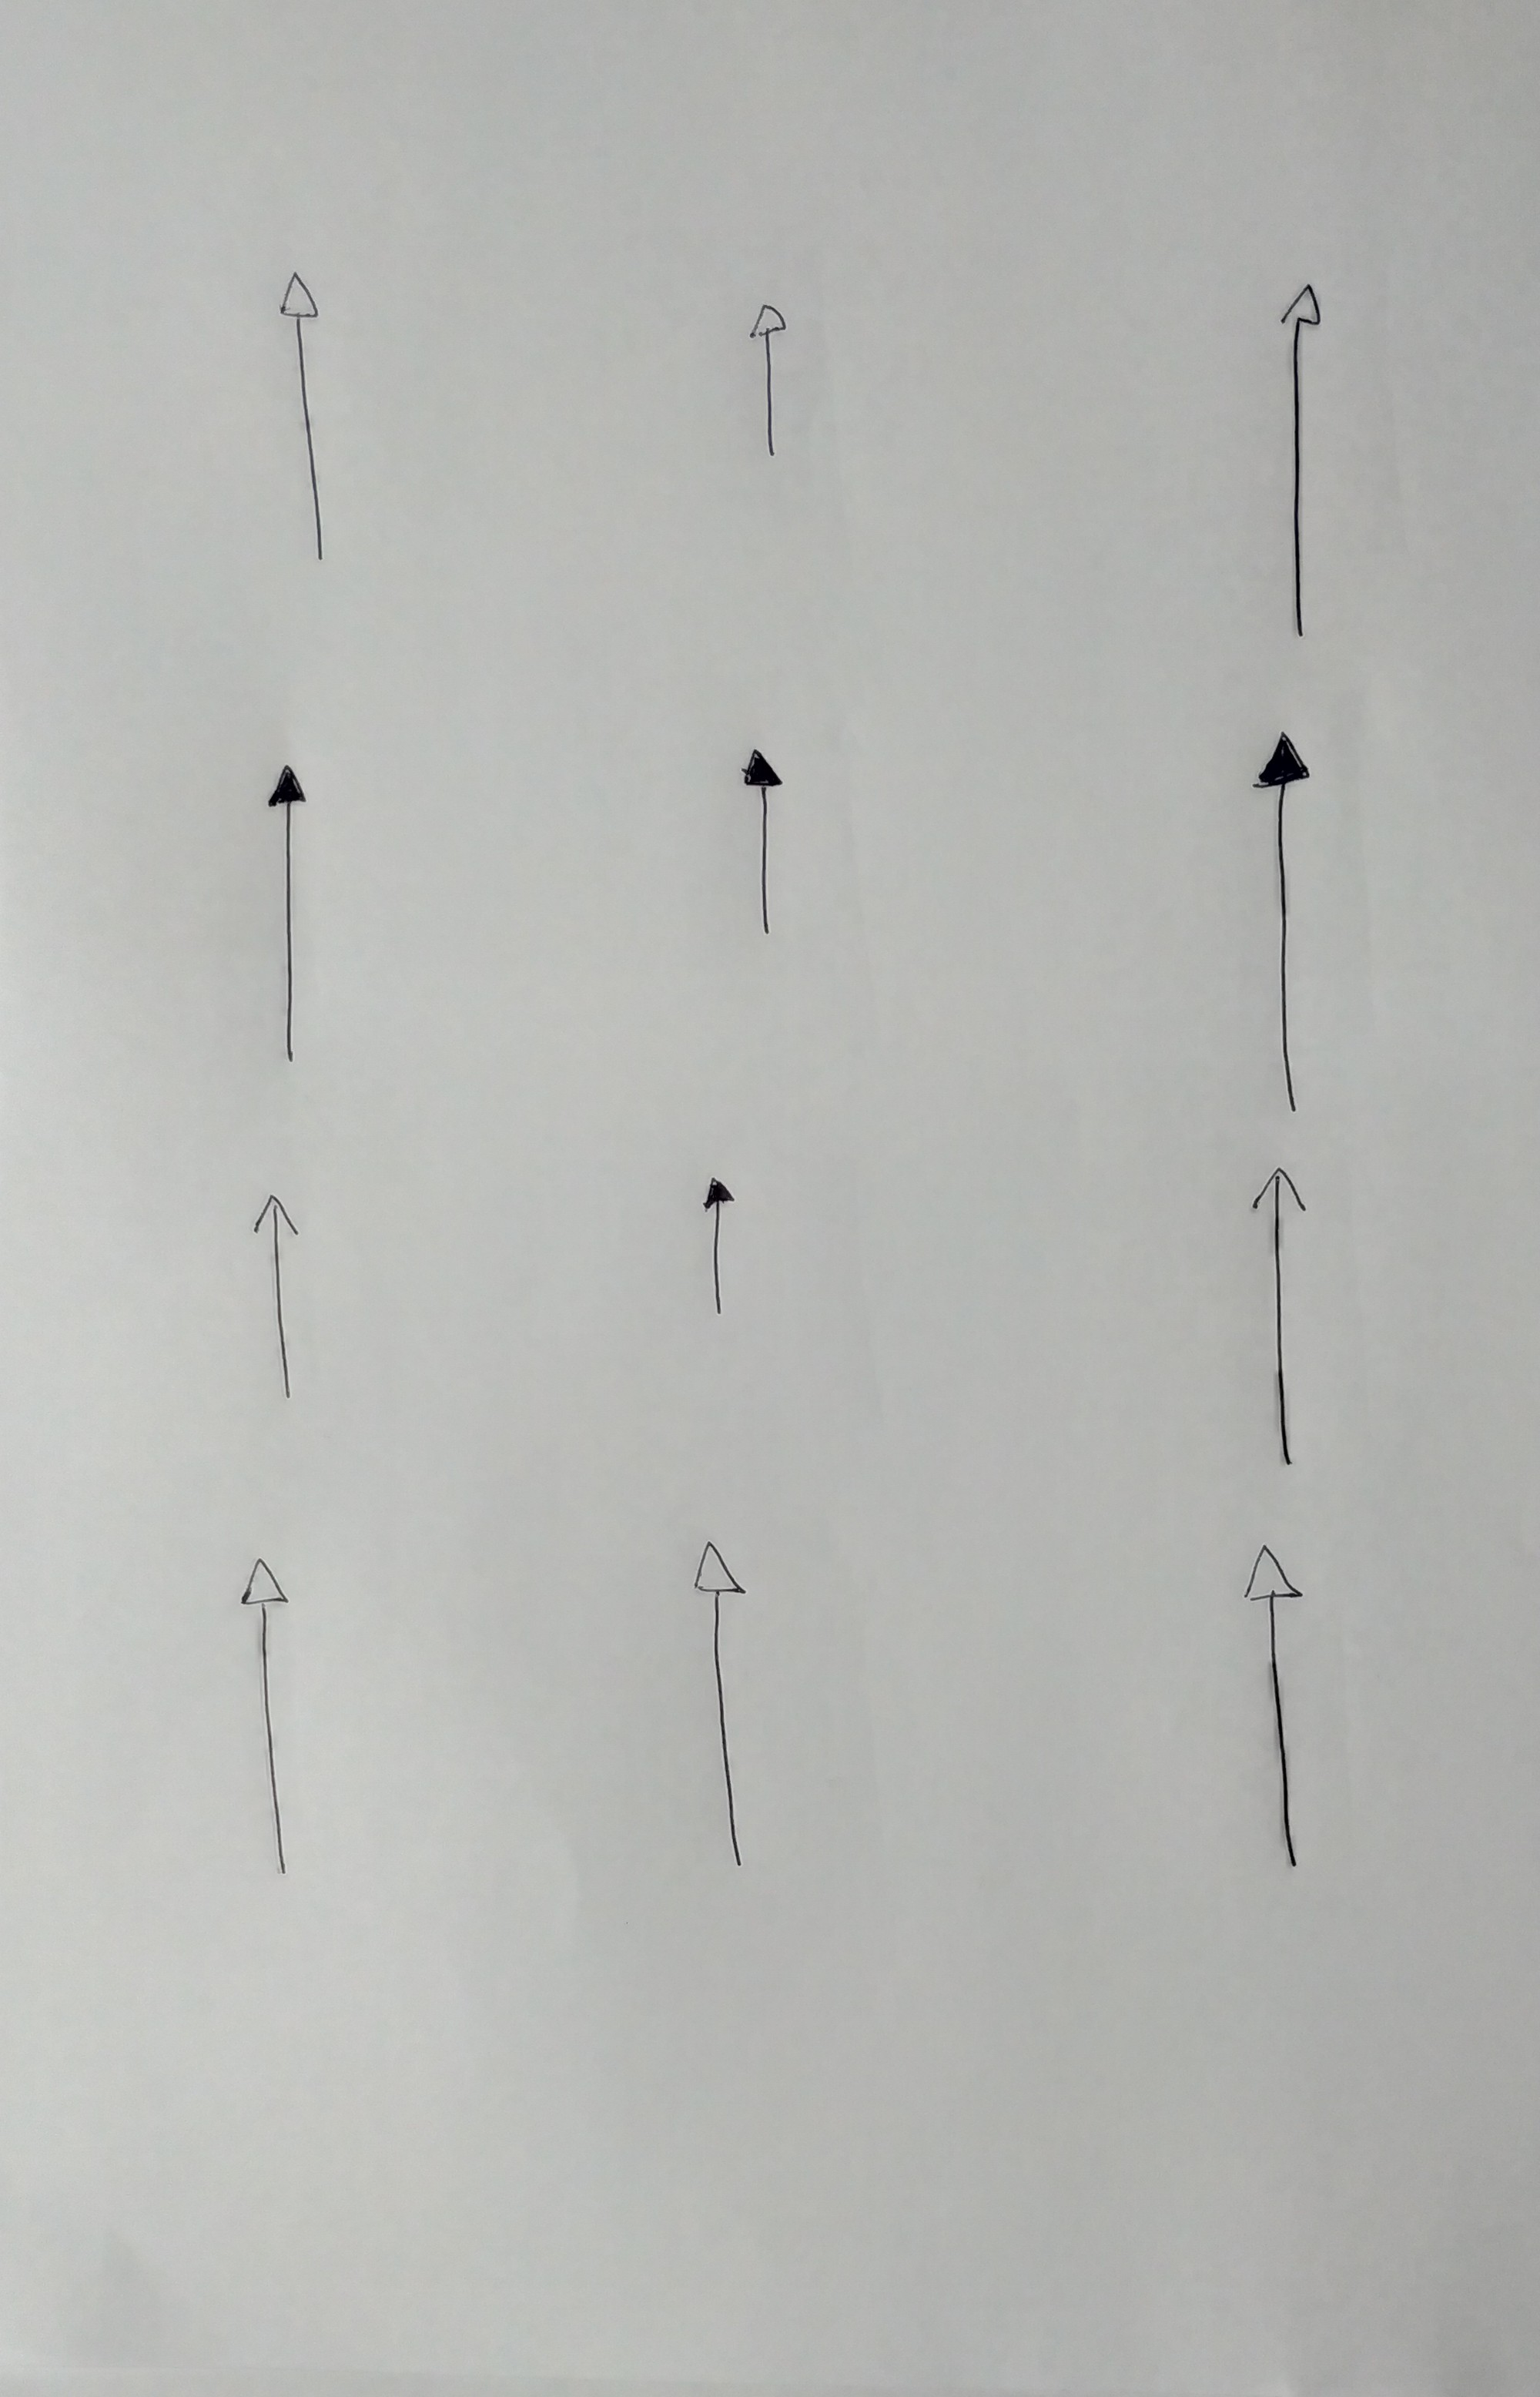arrow_line_up: (1248, 729, 1317, 1120), (690, 1537, 763, 1875), (1243, 1539, 1315, 1878), (1273, 280, 1334, 645), (236, 1557, 299, 1883), (1247, 1165, 1308, 1478), (272, 269, 333, 564), (262, 760, 313, 1067), (250, 1190, 307, 1399), (737, 743, 791, 940), (747, 295, 791, 465), (698, 1172, 735, 1326)
